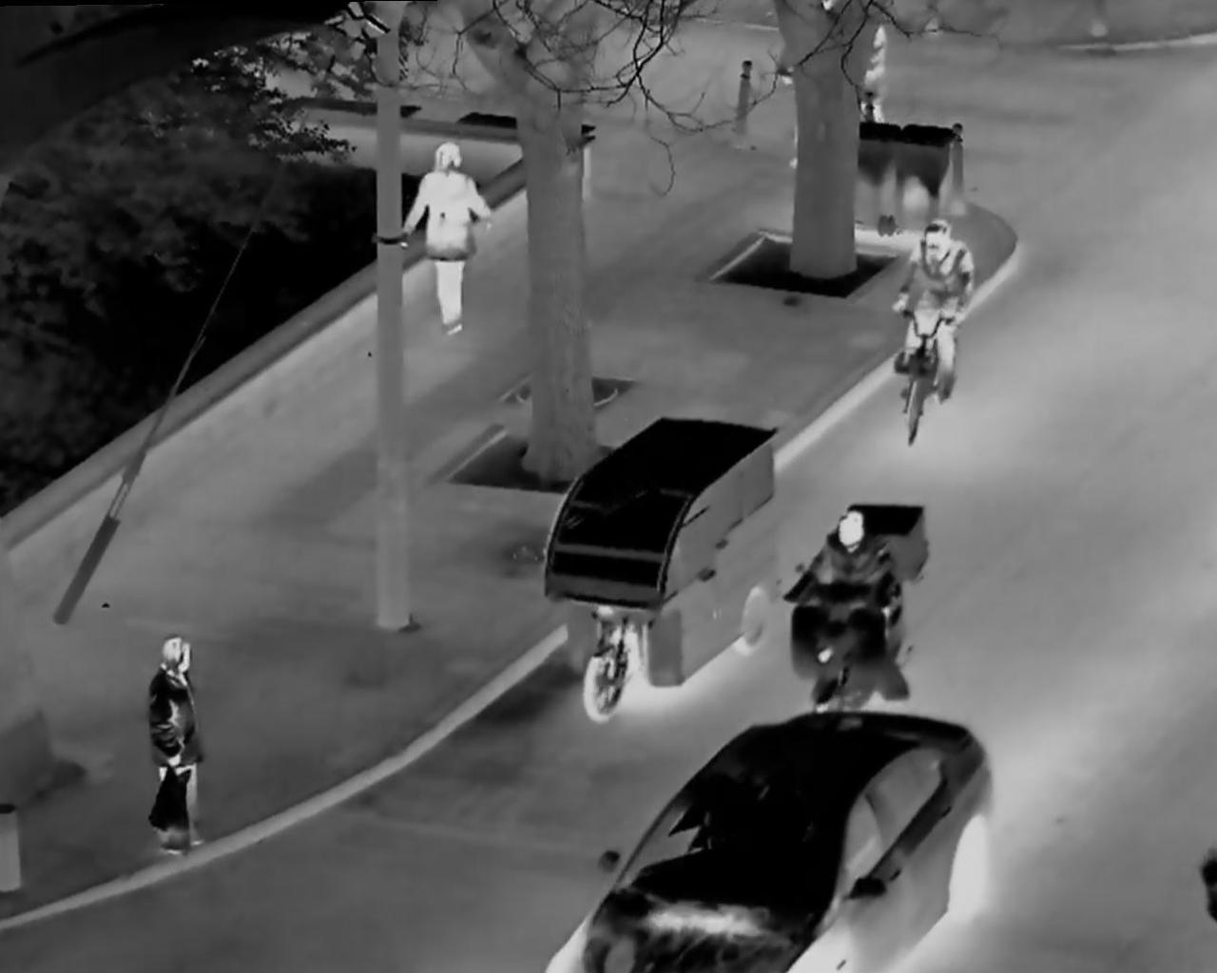person: (398, 123, 512, 359), (896, 214, 981, 447), (136, 629, 221, 860), (807, 502, 897, 663)
